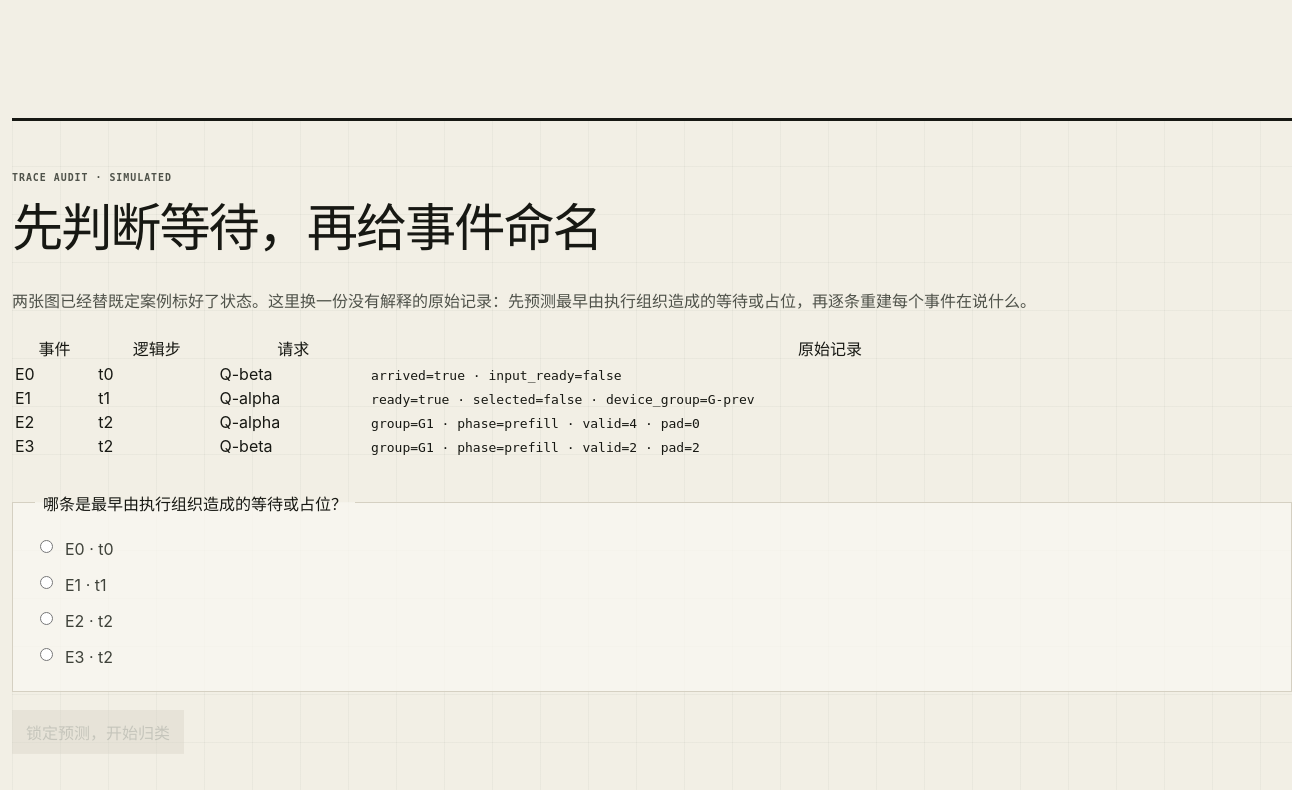
Test case: chapter two trace audit and transfer assessment › keeps raw events visible but requires a prediction before classification
The width and height of the screenshot is (1292, 790).
Expected: the table named "待审查的模拟原始事件" is shown, [12,333,1291,459]
What coordinates should you click on to do the following:
click the radio button labelled "E1 · t1"
I would click on:
 (46, 582)
Its box is [40,576,53,589].
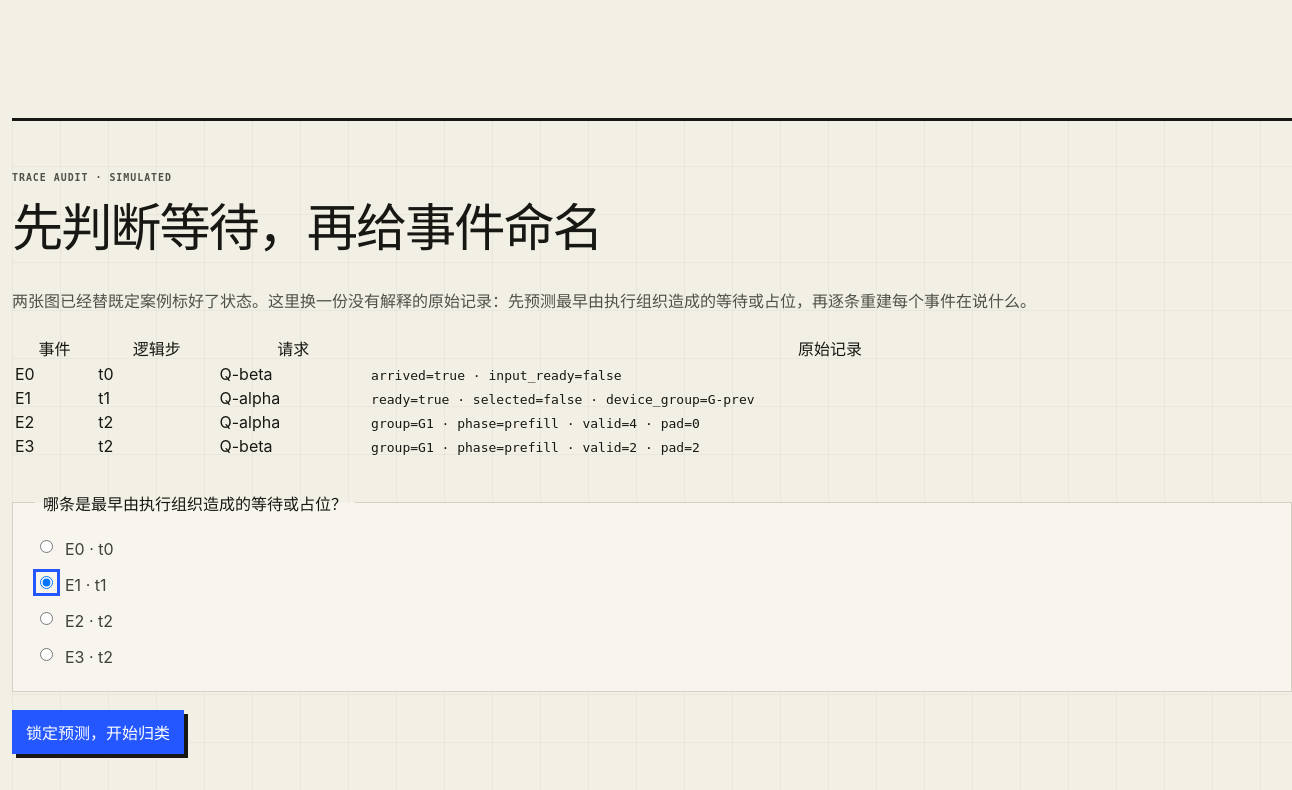
What coordinates should you click on to do the following:
click the button "锁定预测，开始归类"
I would click on:
 (98, 732)
Its box is [12,710,184,754].
(page scrolled)
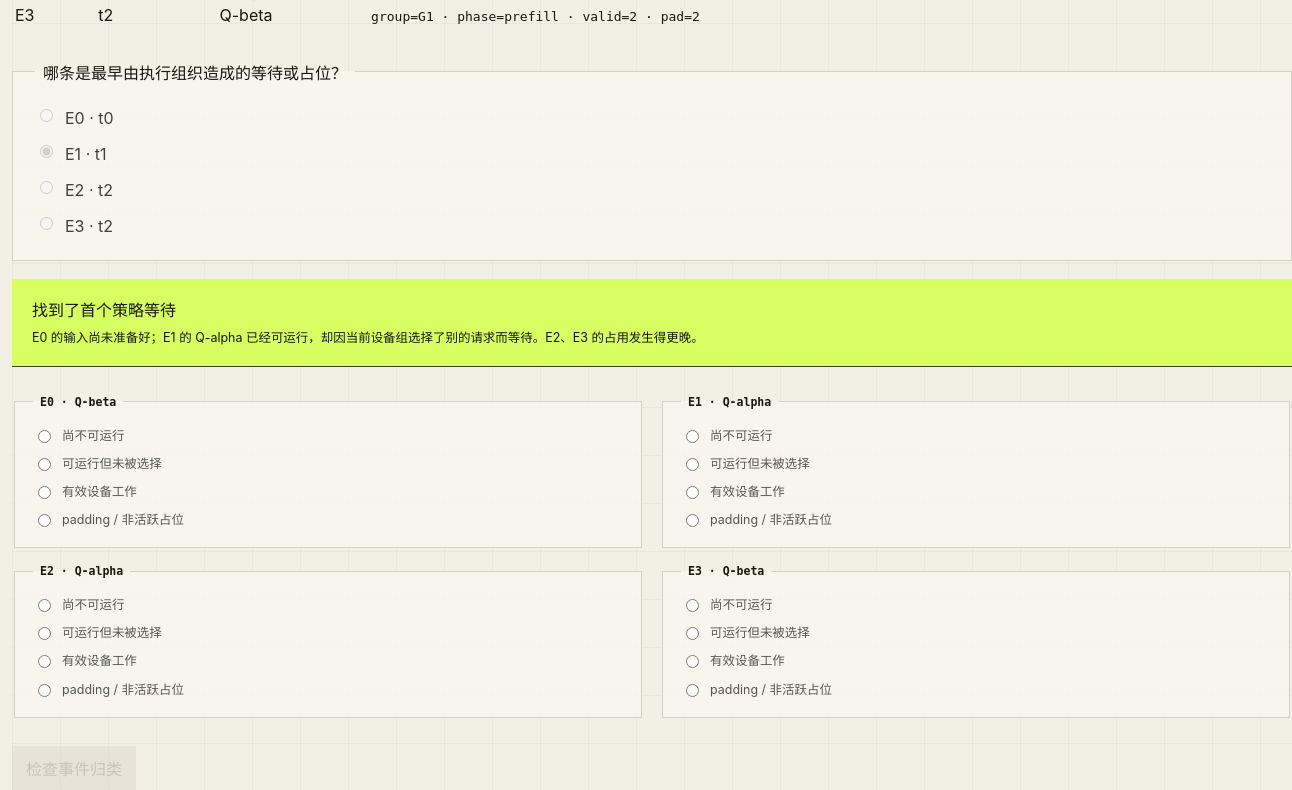
Expected: the text "找到了首个策略等待" is shown, [32,300,176,320]
Expected: the element named "逐条归类事件" is shown, [12,395,1291,718]
